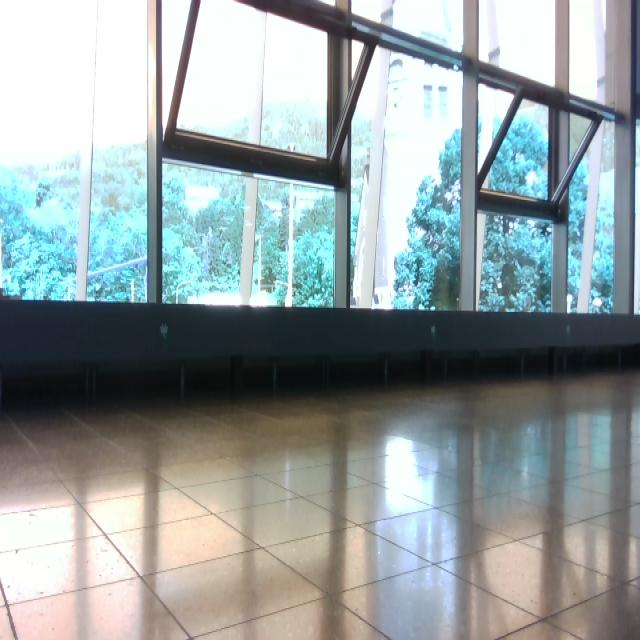door: (1, 0, 638, 637)
light bulb: (184, 183, 219, 213), (524, 168, 536, 185), (159, 322, 168, 338)
tiled floor: (1, 370, 638, 638)
window: (0, 0, 639, 315)
